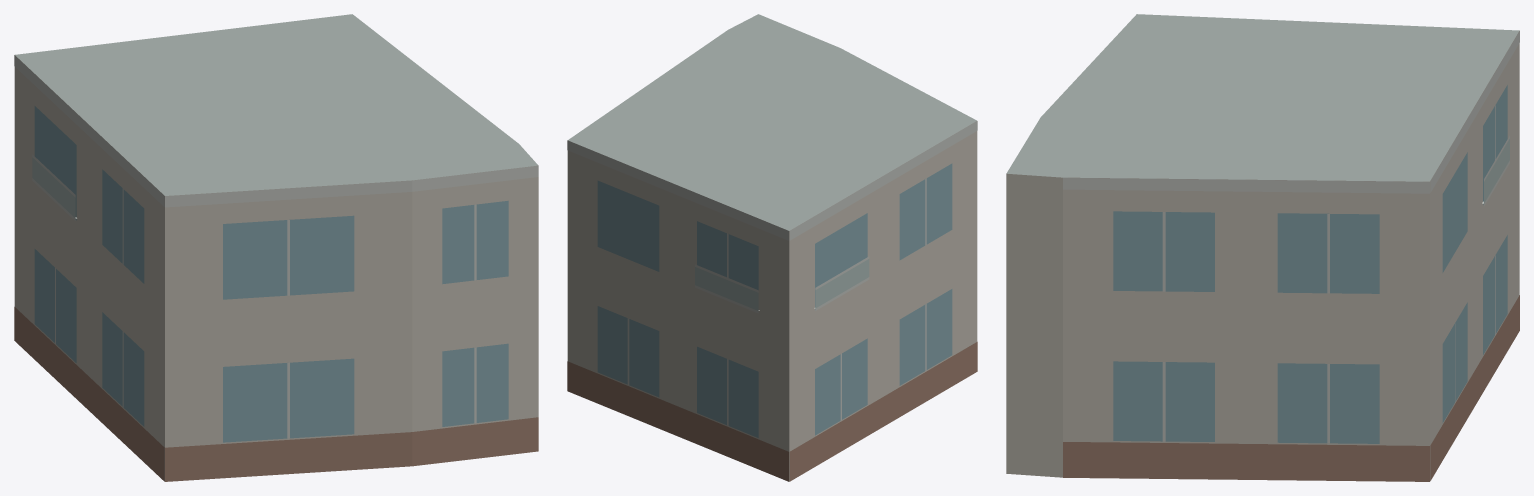
Rendered from survey-upis-32595799.glb.
The picture shows the model from 3 angles, left to right: view 1: azimuth 30°, elevation 25°; view 2: azimuth 150°, elevation 25°; view 3: azimuth 270°, elevation 25°; orthographic projection. The views are drawn at different scales.
Visible parts, largest first — view 1: survey-upis-32595799.tmp; view 2: survey-upis-32595799.tmp; view 3: survey-upis-32595799.tmp.
Boxes of the visible parts, bbox=[...] form: survey-upis-32595799.tmp: bbox=[14, 14, 538, 481]; survey-upis-32595799.tmp: bbox=[567, 14, 977, 481]; survey-upis-32595799.tmp: bbox=[1006, 14, 1519, 481].
Size of the model in its own units: 7.32 by 6.1 by 9.47.
